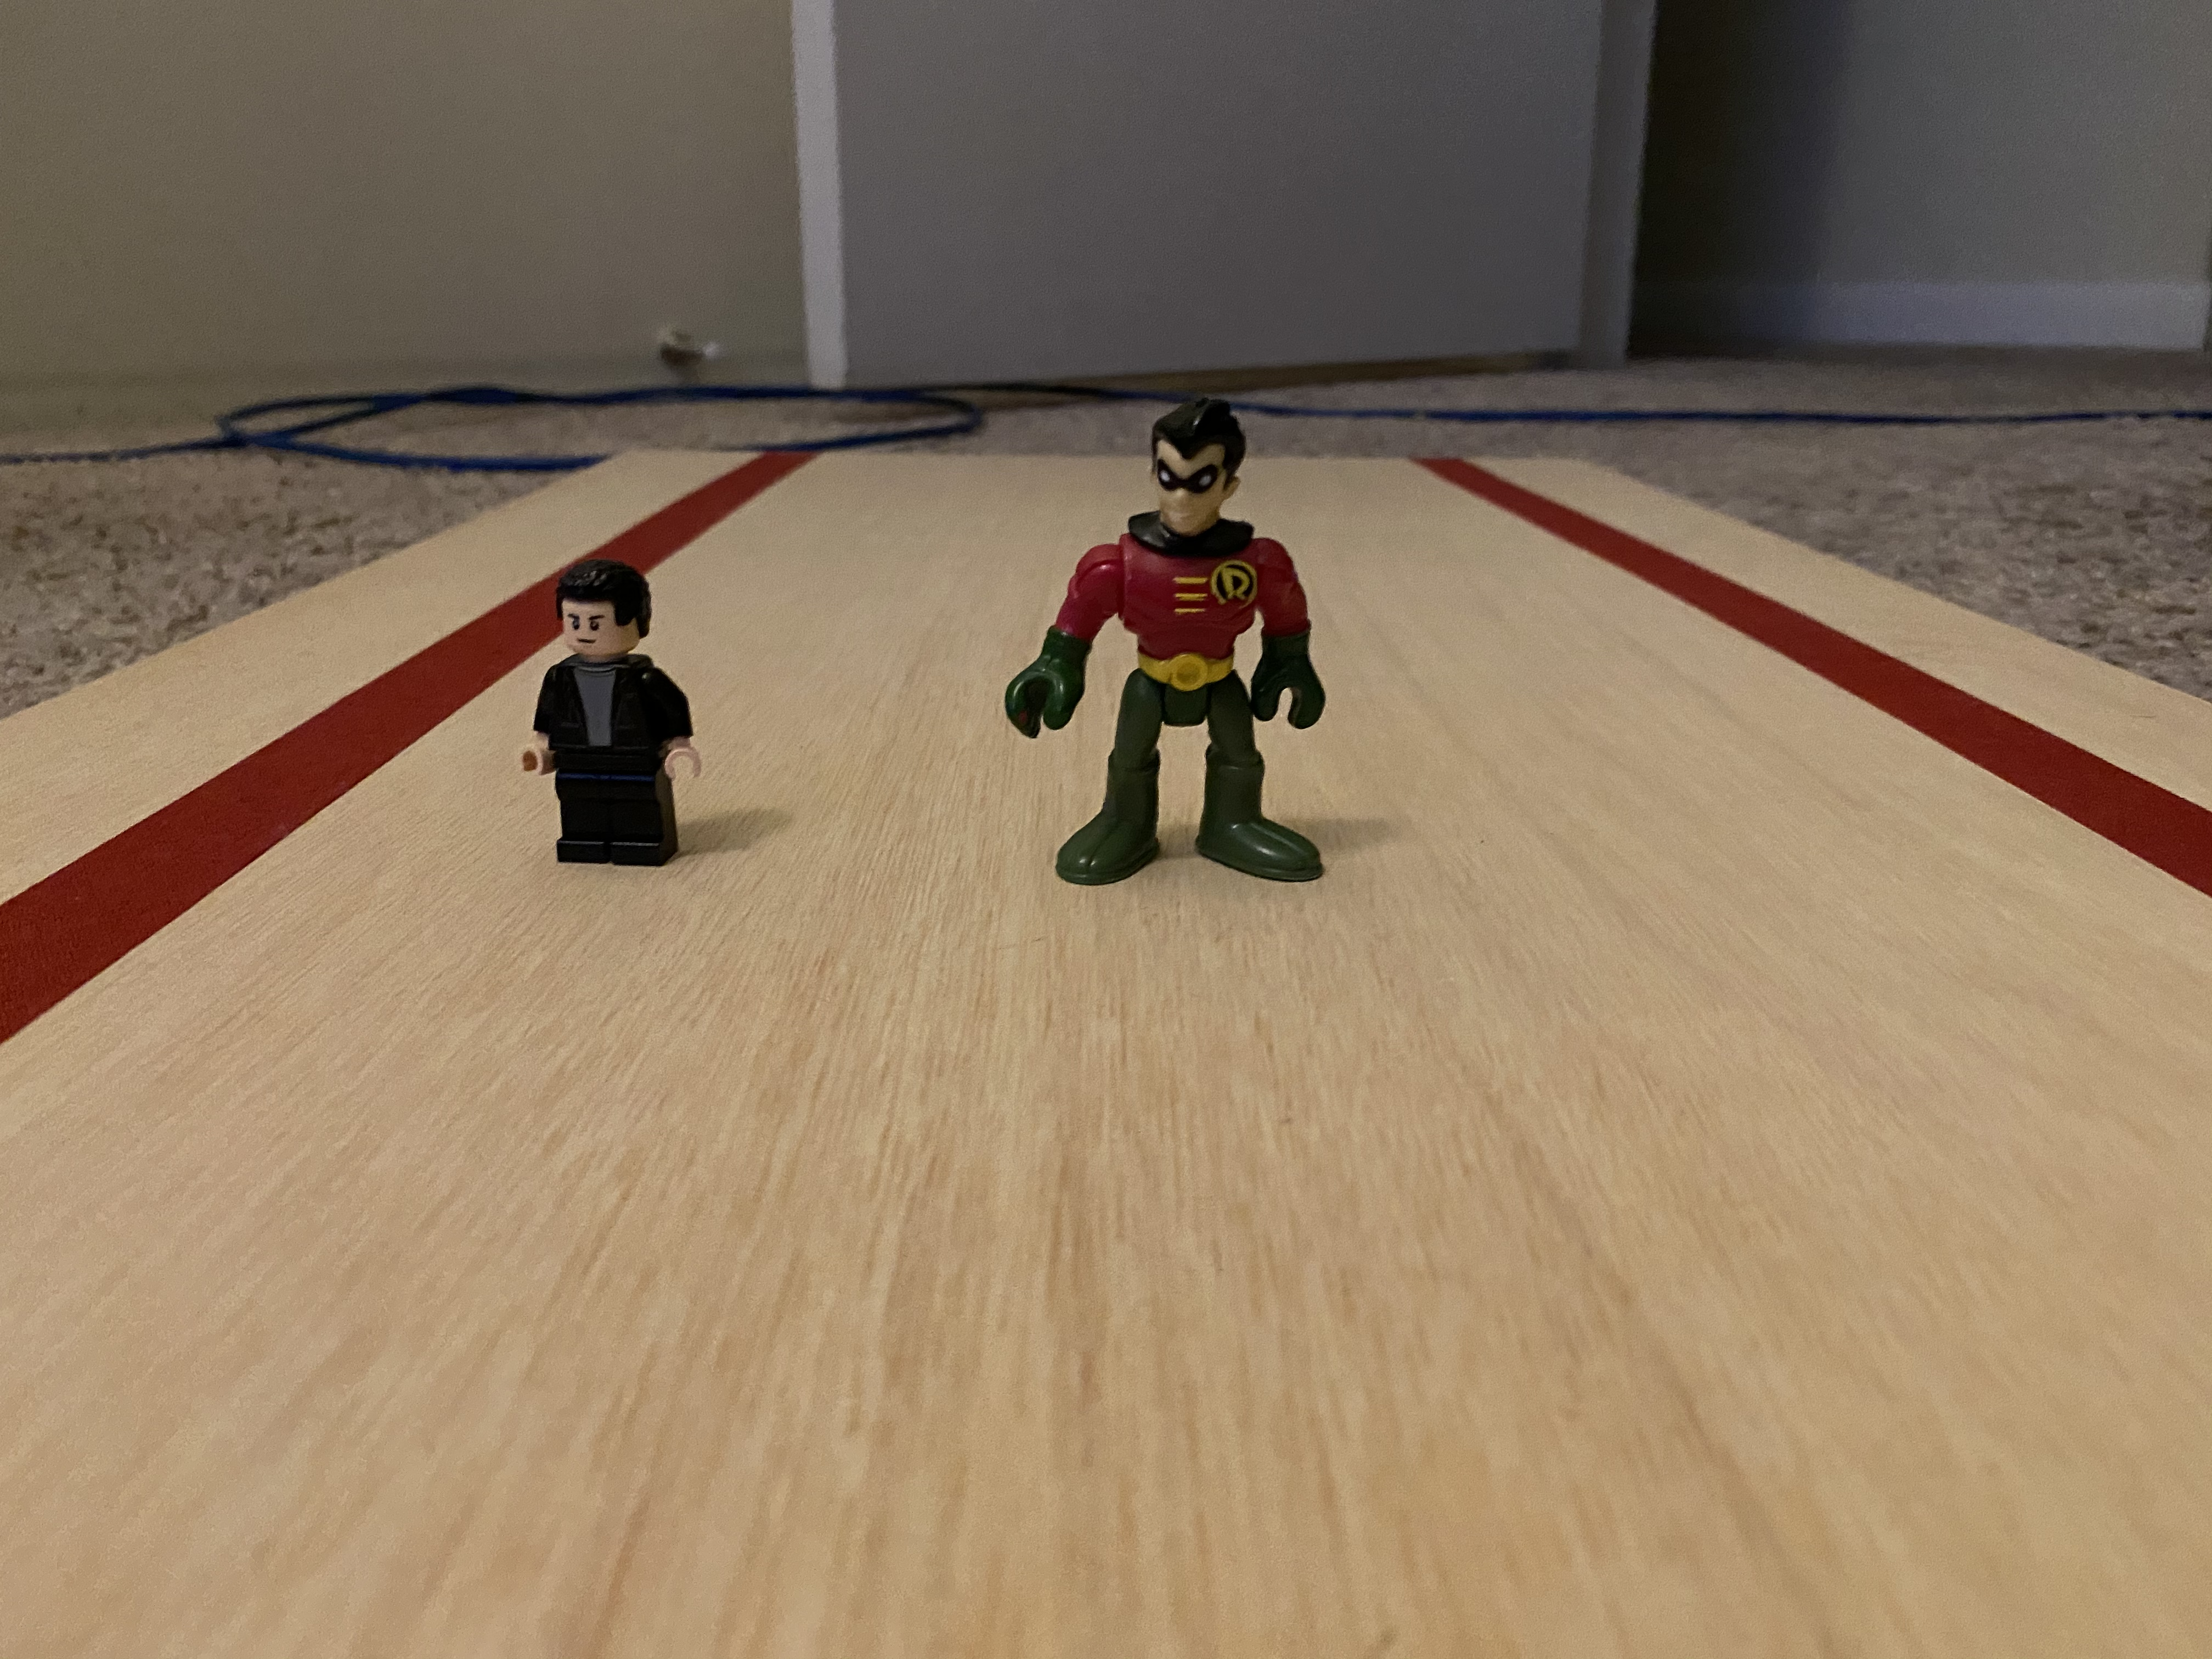Person: (987, 386, 1371, 921), (520, 550, 708, 884)
